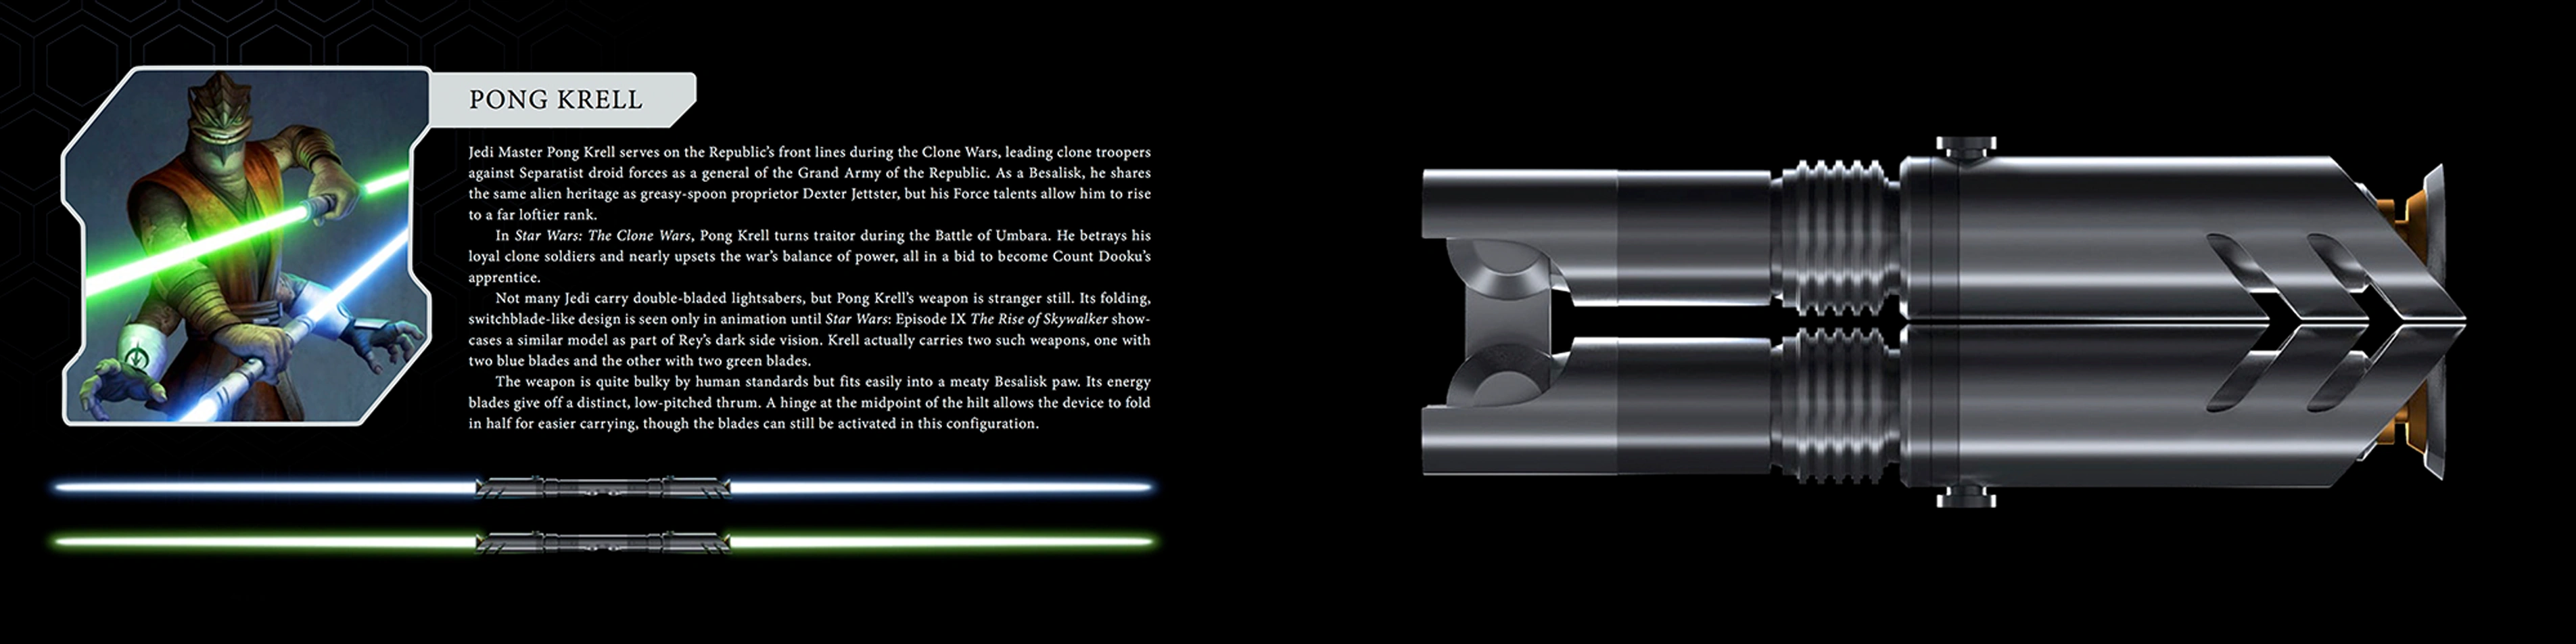Dalek: (1395, 322, 2471, 522), (1395, 138, 2477, 320), (67, 143, 432, 307), (169, 220, 427, 429), (54, 475, 1157, 501), (49, 529, 1157, 552)
